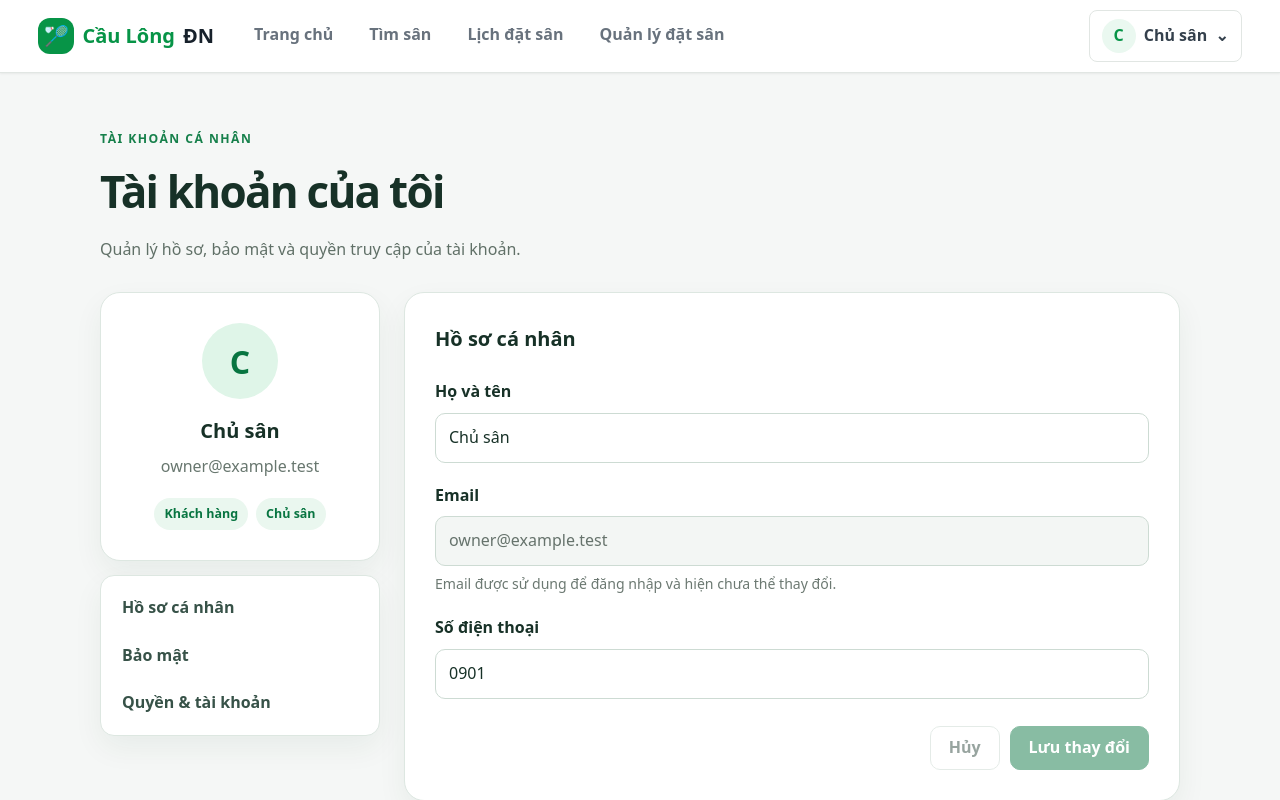
Test case: empty phone is sent and reconciled as null
Clear the field labelled "Số điện thoại" at (792, 674), box [435,649,1149,698]
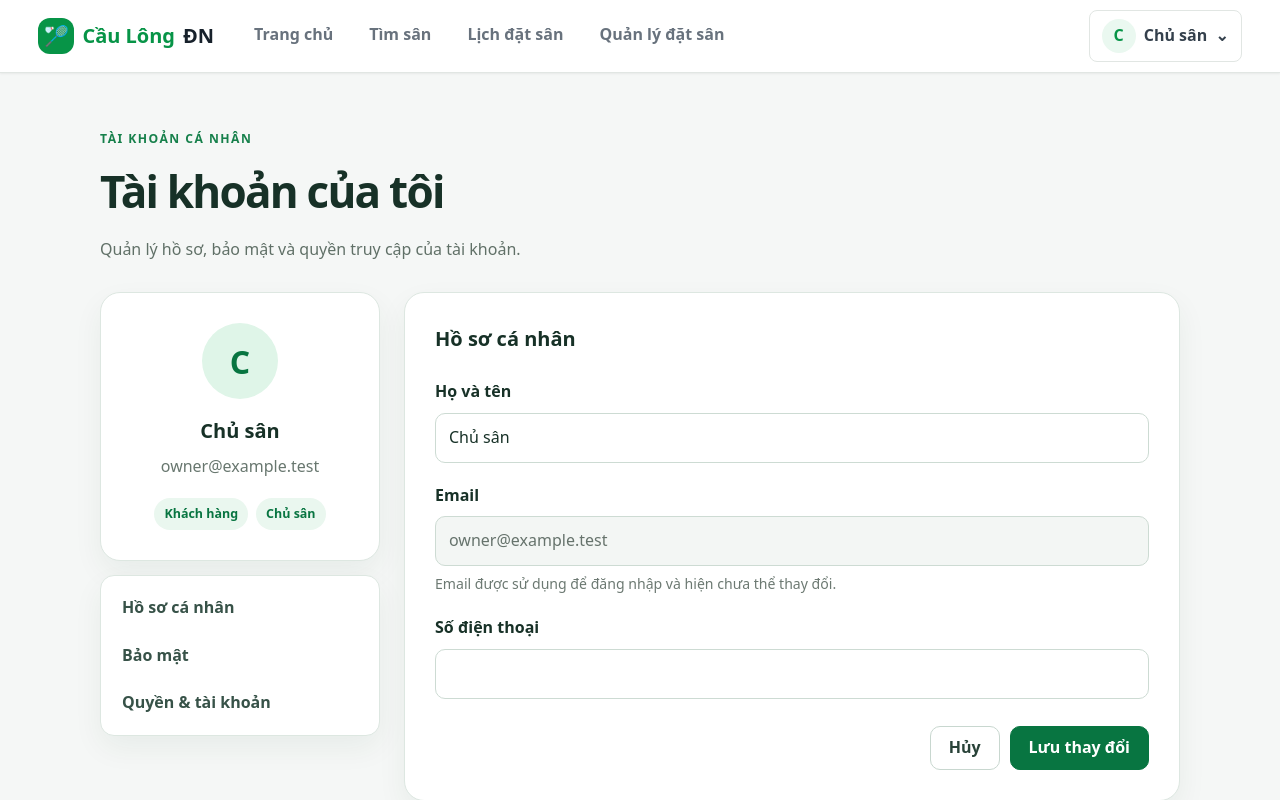
Click the button "Lưu thay đổi" at (1079, 748), box [1010,726,1149,770]
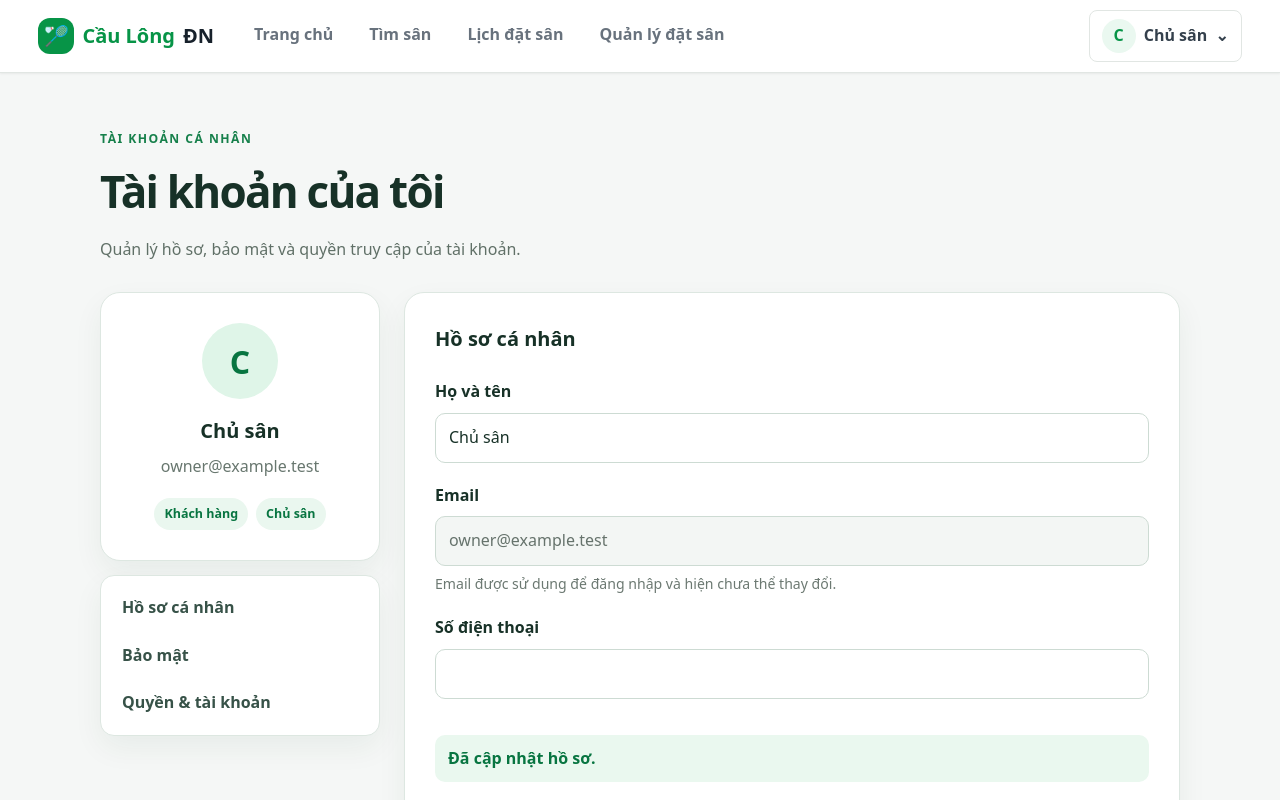
Expected: the text "Đã cập nhật hồ sơ." is shown, [435,734,1149,782]
